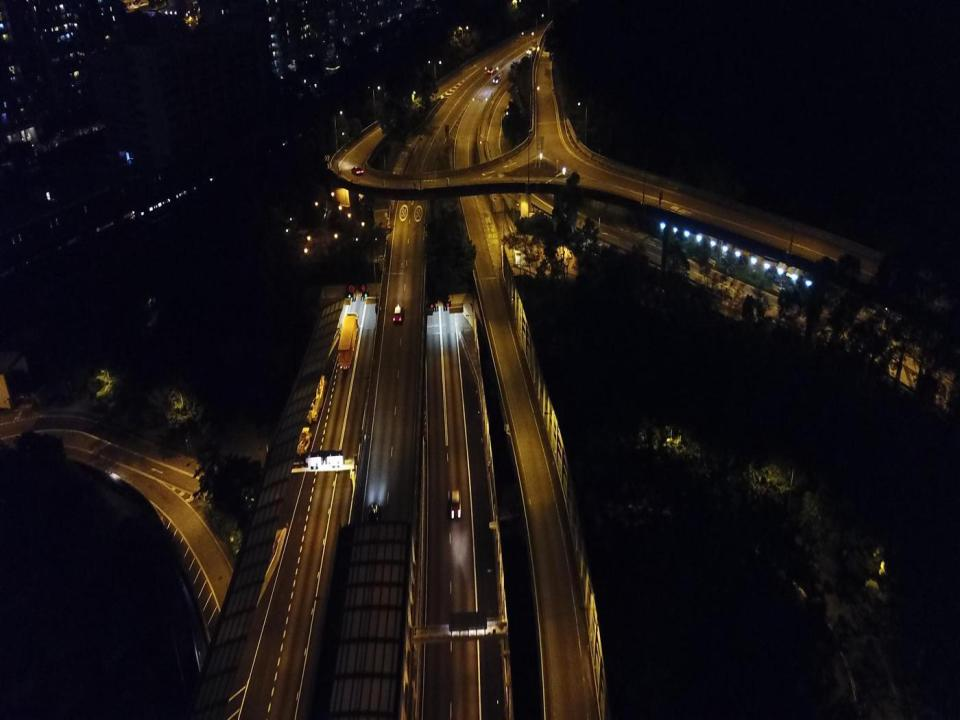car: (448, 488, 463, 520), (367, 501, 381, 528), (392, 302, 403, 324), (351, 166, 365, 176), (525, 46, 536, 56), (486, 66, 498, 75)
truck: (337, 312, 359, 370)
van: (492, 72, 502, 85)
